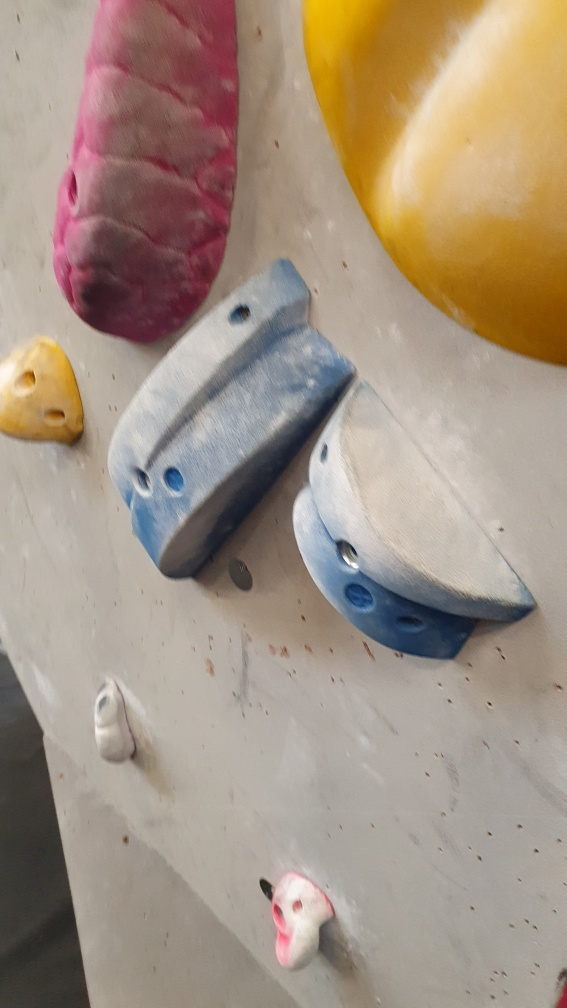Hand Start: (226, 559, 258, 599)
Pinch: (106, 251, 363, 585), (284, 373, 538, 668)
